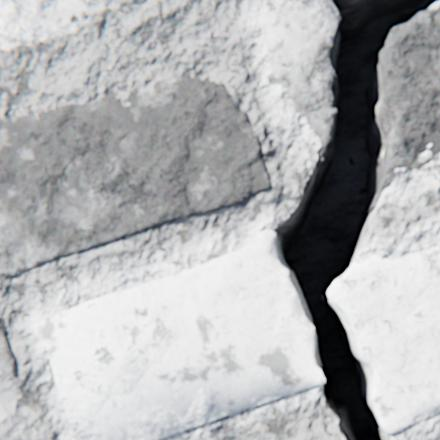brick: (0, 75, 271, 276), (0, 0, 148, 51), (0, 318, 34, 439)
broken_brick: (41, 230, 325, 439), (328, 247, 439, 432), (372, 6, 439, 209), (258, 0, 340, 158)
crack: (274, 0, 439, 439)
